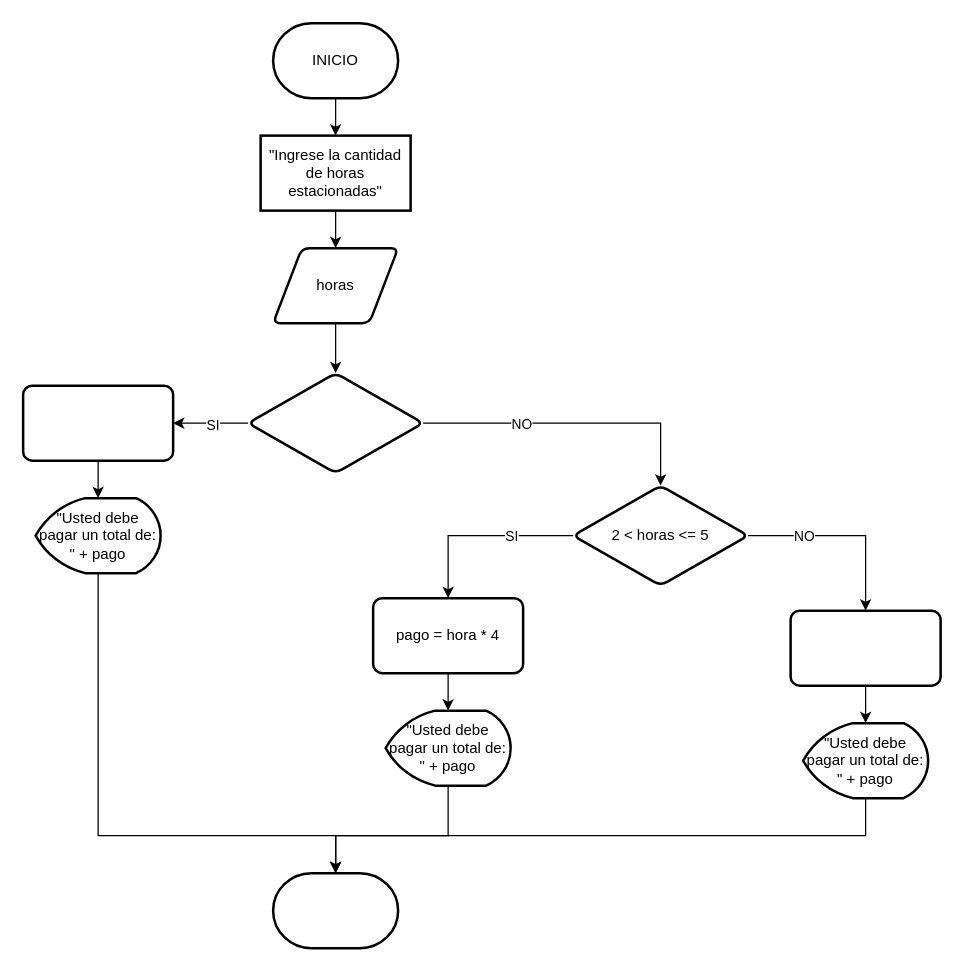
Some shapes in this 963 by 970 pixel diagram are drawn without their labels. Here are the shapes that lost their labels. From the top down, the box of each, then its label:
(21, 384, 174, 461): pago = hora * 5
(246, 371, 424, 474): horas < 2
(789, 609, 941, 686): pago = horas * 3
(271, 871, 399, 949): FIN
